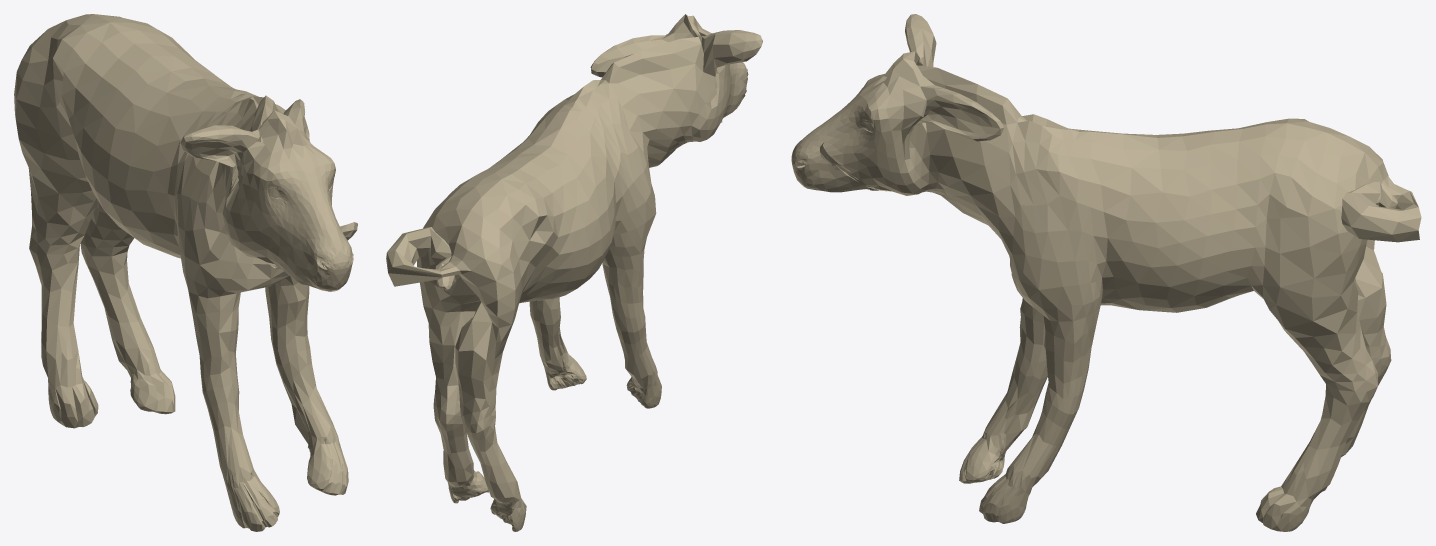
The picture shows the model from 3 angles, left to right: view 1: azimuth 30°, elevation 25°; view 2: azimuth 150°, elevation 25°; view 3: azimuth 270°, elevation 25°; orthographic projection. The views are drawn at different scales.
Visible parts, largest first — view 1: world; view 2: world; view 3: world.
Part boxes in pixels (bbox=[...]): world: bbox=[14, 14, 357, 531]; world: bbox=[386, 14, 762, 531]; world: bbox=[791, 14, 1421, 531].
Size of the model in its own units: 0.6445 by 1.35 by 1.73.
